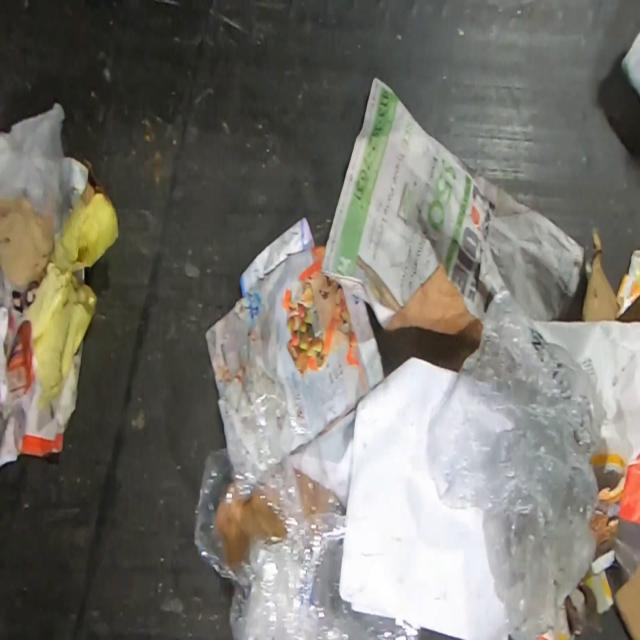cardboard: (377, 262, 480, 377), (578, 225, 620, 324), (615, 569, 639, 639)
soft_plastic: (426, 288, 598, 640), (194, 395, 421, 639)
